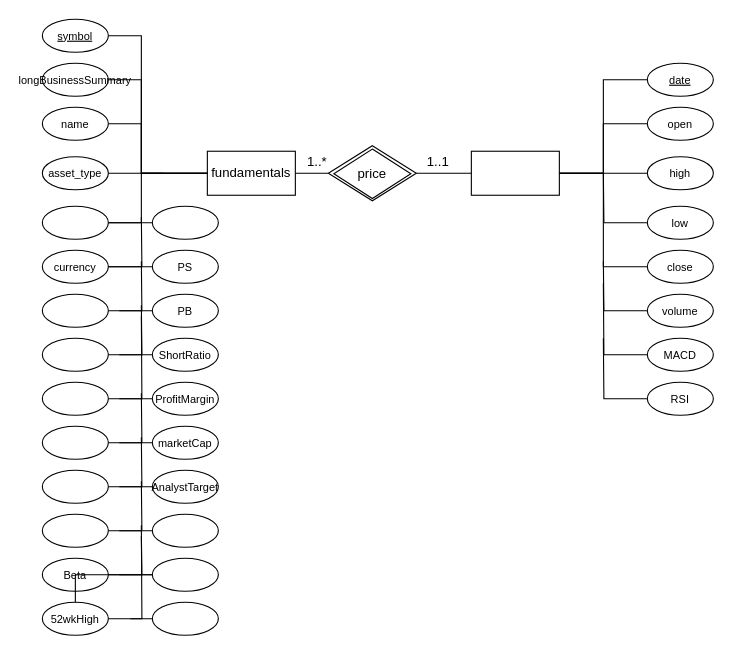
Image size: 733x655. Some labels were removed from this diagram. The centre of each missing label's shape, as x and y in pixels:
52wkLow: (184,618)
bookvalue: (184,222)
country: (74,310)
exchange: (74,222)
forwardPE: (74,486)
industry: (74,398)
PctInsider: (184,574)
PctInstitution: (184,530)
PEG: (74,530)
sector: (74,354)
stock_price: (514,172)
trailingPE: (74,442)
